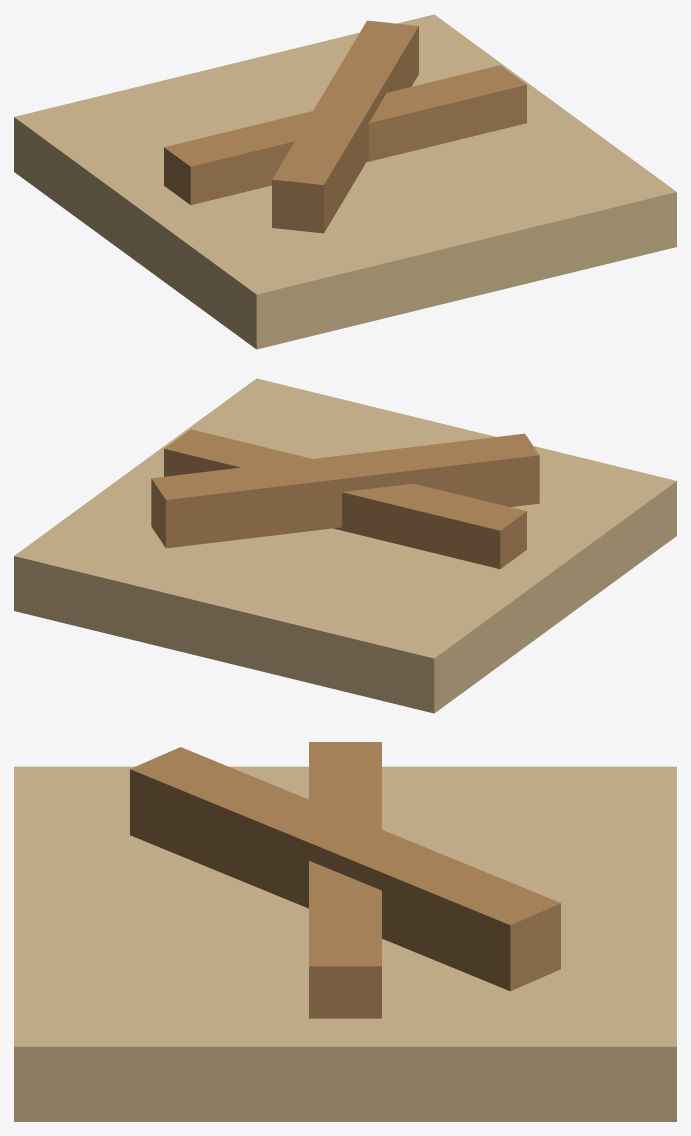
Rendered from Campfire-area.glb.
3 views of the same model, one above another, from view 1: azimuth 30°, elevation 25°; view 2: azimuth 150°, elevation 25°; view 3: azimuth 270°, elevation 25° (orthographic). The views are drawn at different scales.
Visible parts, largest first — view 1: campfire-area-static-fire-stone, campfire-area-static-fire-timber; view 2: campfire-area-static-fire-stone, campfire-area-static-fire-timber; view 3: campfire-area-static-fire-stone, campfire-area-static-fire-timber.
Part boxes in pixels (box(x1,y1,x2,y2)): campfire-area-static-fire-stone: box(14, 14, 676, 349); campfire-area-static-fire-timber: box(164, 20, 526, 233); campfire-area-static-fire-stone: box(14, 378, 676, 713); campfire-area-static-fire-timber: box(151, 429, 539, 568); campfire-area-static-fire-stone: box(14, 766, 676, 1121); campfire-area-static-fire-timber: box(130, 742, 560, 1018).
Size of the model in its own units: 2 by 0.485 by 2.
